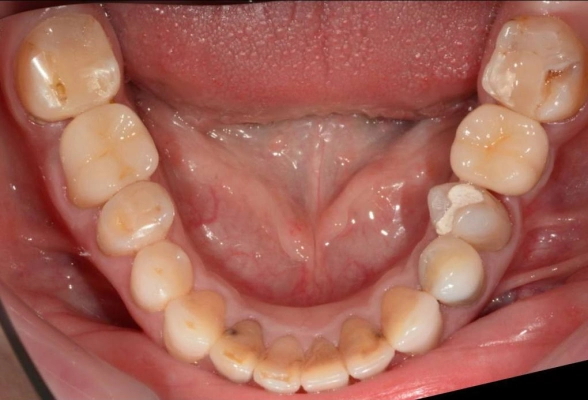LL1BC_healthy: (418, 244, 481, 301)
LL1M_healthy: (450, 102, 546, 190)
LL2BC_decay: (429, 184, 512, 247)
LL2M_decay: (488, 22, 577, 119)
LLCI_decay: (303, 336, 347, 389)
LLC_healthy: (379, 290, 442, 348)
LLLI_decay: (338, 318, 391, 373)
LR1BC_decay: (130, 244, 191, 300)
LR1M_healthy: (68, 104, 153, 190)
LR2BC_healthy: (99, 187, 172, 243)
LR2M_decay: (17, 19, 117, 109)
LRCI_decay: (256, 331, 304, 387)
LRC_healthy: (166, 289, 222, 354)
LRLI_decay: (218, 316, 257, 379)
